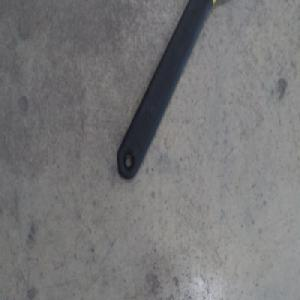AdjustableWrench: (117, 0, 217, 179)
